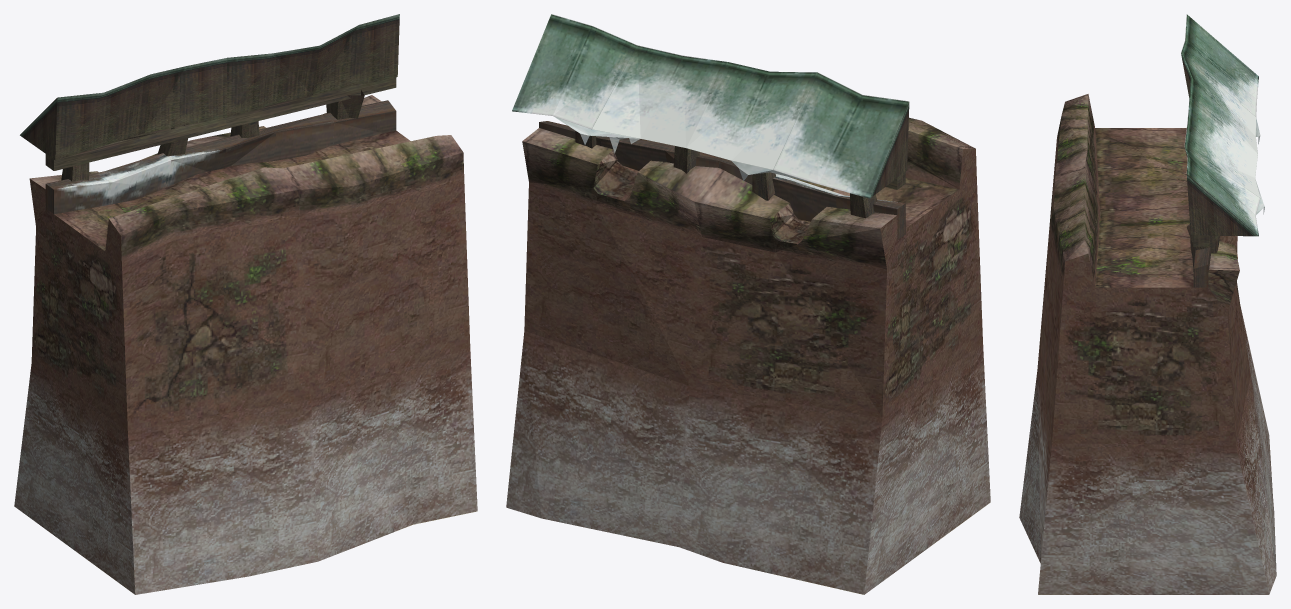
The model's file is C1SMWA10SNH.bgf.obj.
The picture shows the model from 3 angles, left to right: view 1: azimuth 30°, elevation 25°; view 2: azimuth 150°, elevation 25°; view 3: azimuth 270°, elevation 25°; orthographic projection. The views are drawn at different scales.
Visible parts, largest first — view 1: SMWA10H; view 2: SMWA10H; view 3: SMWA10H.
Boxes of the visible parts, <box> form: SMWA10H: <box>14,14,477,594</box>; SMWA10H: <box>506,14,990,594</box>; SMWA10H: <box>1019,14,1276,594</box>.
Size of the model in its own units: 10 by 12.55 by 6.8.
Materials: 4 (4 with a texture image).
